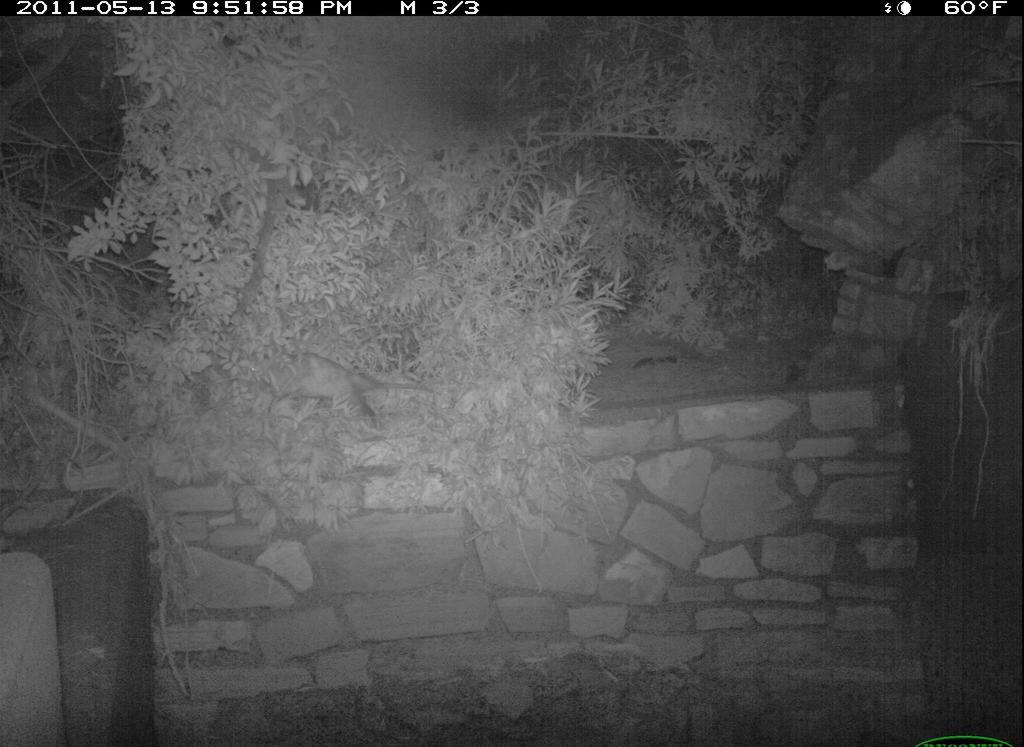opossum: (244, 349, 442, 434)
